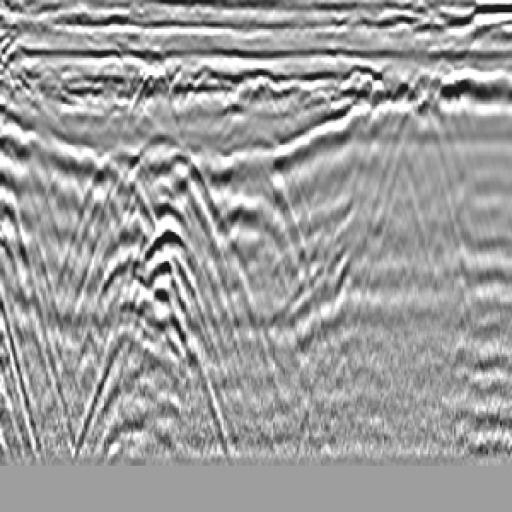metalic: (179, 55, 328, 263)
